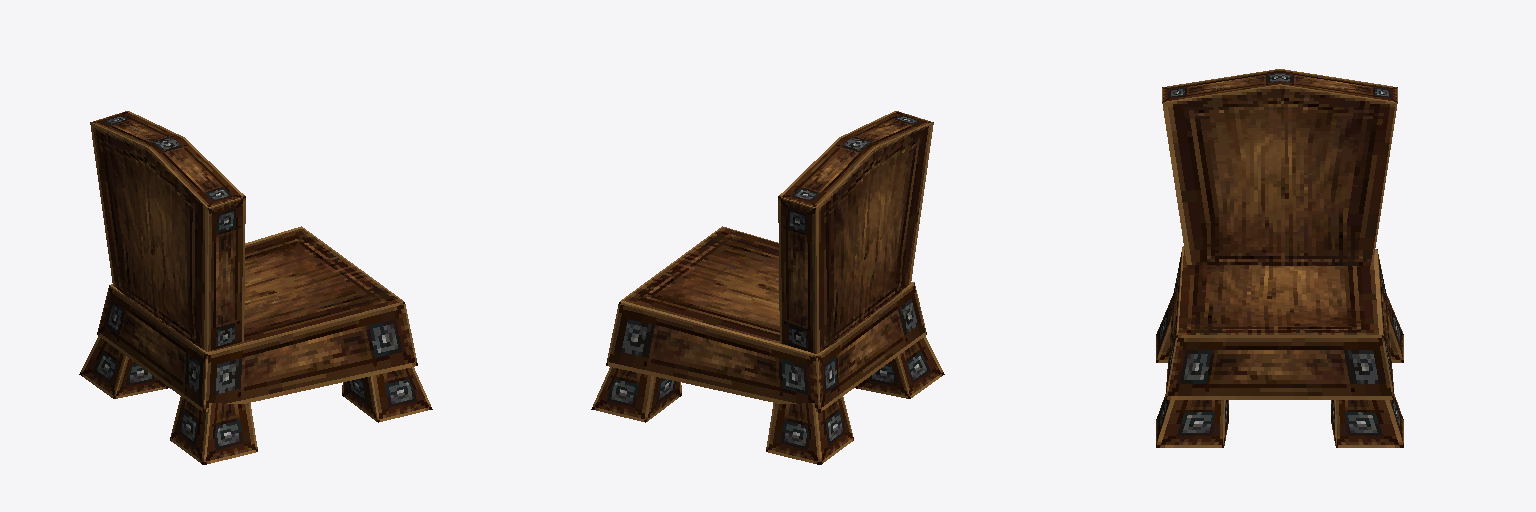
3 renders of one model, left to right at view 1: azimuth 30°, elevation 25°; view 2: azimuth 150°, elevation 25°; view 3: azimuth 270°, elevation 25°, orthographic.
Visible parts, largest first — view 1: generalchairloend01.m2; view 2: generalchairloend01.m2; view 3: generalchairloend01.m2.
Boxes of the visible parts, <box> form: generalchairloend01.m2: <box>79,111,432,464</box>; generalchairloend01.m2: <box>591,111,944,464</box>; generalchairloend01.m2: <box>1156,69,1403,447</box>.
Size of the model in its own units: 1.18 by 1.33 by 1.11.
Materials: 1 (1 with a texture image).